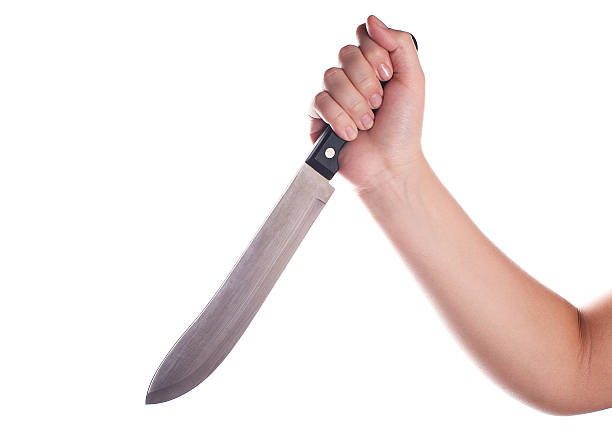knife: (143, 118, 348, 406)
